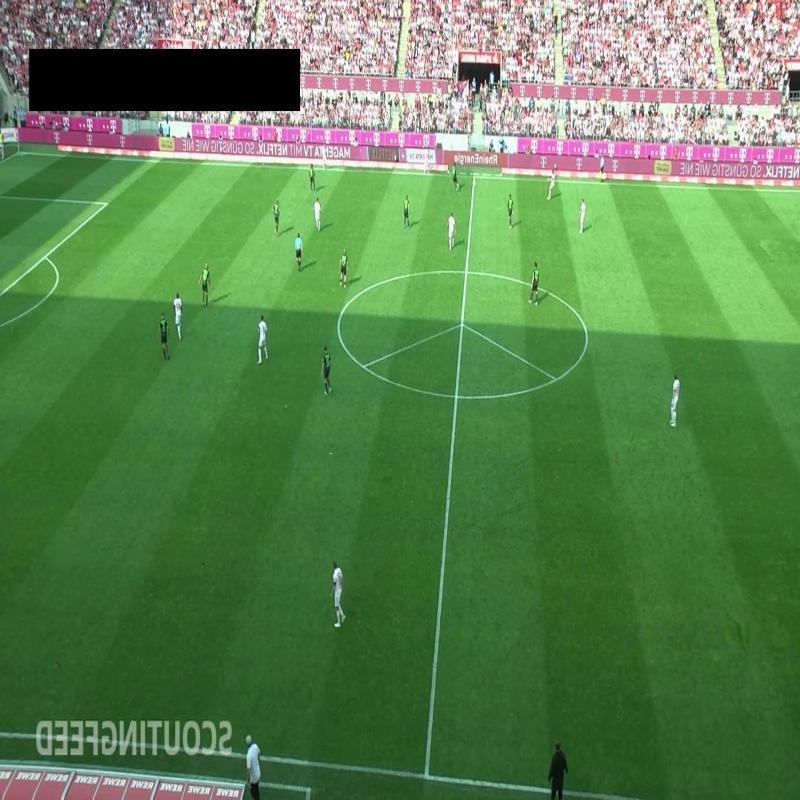1: (12, 146, 26, 160)
10: (38, 251, 52, 264)
13: (466, 169, 481, 183)
14: (460, 264, 474, 278)
15: (450, 388, 464, 403)
16: (412, 766, 441, 789)
9: (99, 199, 113, 213)
c: (326, 307, 352, 325), (578, 330, 593, 344)
